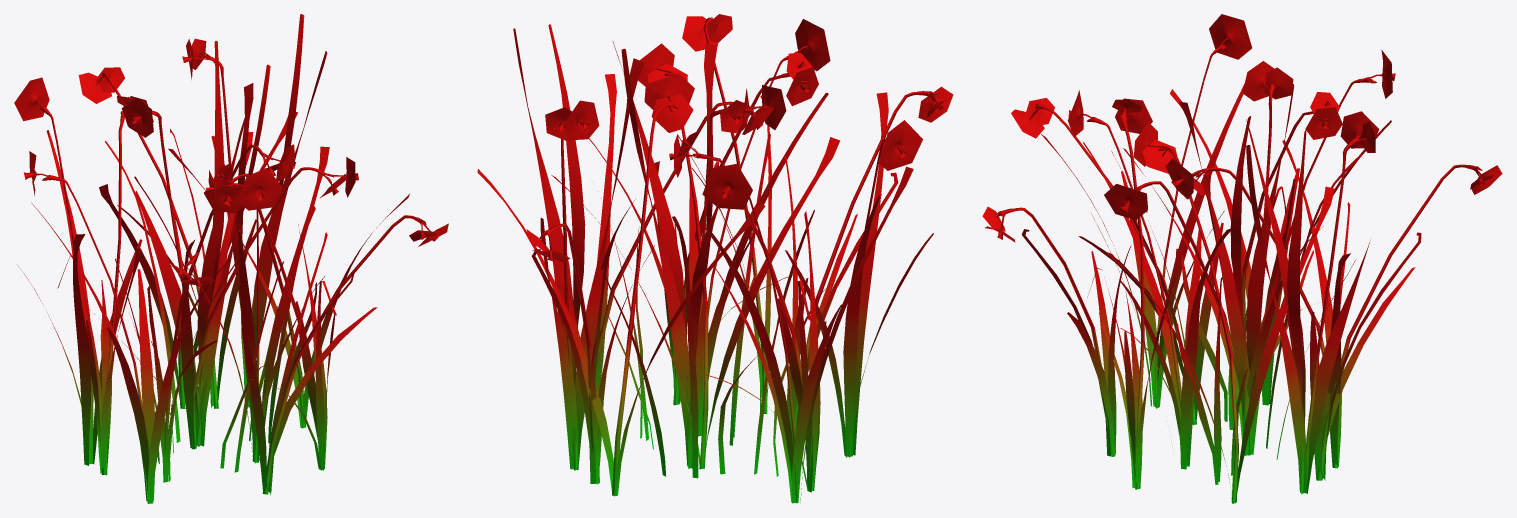
Rendered from Rush Daffodil_LOD3_Var10_wftgfjaia.fbx.
The picture shows the model from 3 angles, left to right: view 1: azimuth 30°, elevation 25°; view 2: azimuth 150°, elevation 25°; view 3: azimuth 270°, elevation 25°; orthographic projection. The views are drawn at different scales.
Visible parts, largest first — view 1: _2bsv_var10_LOD3; view 2: _2bsv_var10_LOD3; view 3: _2bsv_var10_LOD3.
Part boxes in pixels (<box>): _2bsv_var10_LOD3: <box>14,14,448,503</box>; _2bsv_var10_LOD3: <box>477,14,953,503</box>; _2bsv_var10_LOD3: <box>982,14,1502,503</box>.
Bounding box in the file's own units: 35.84 × 39.31 × 47.46.
